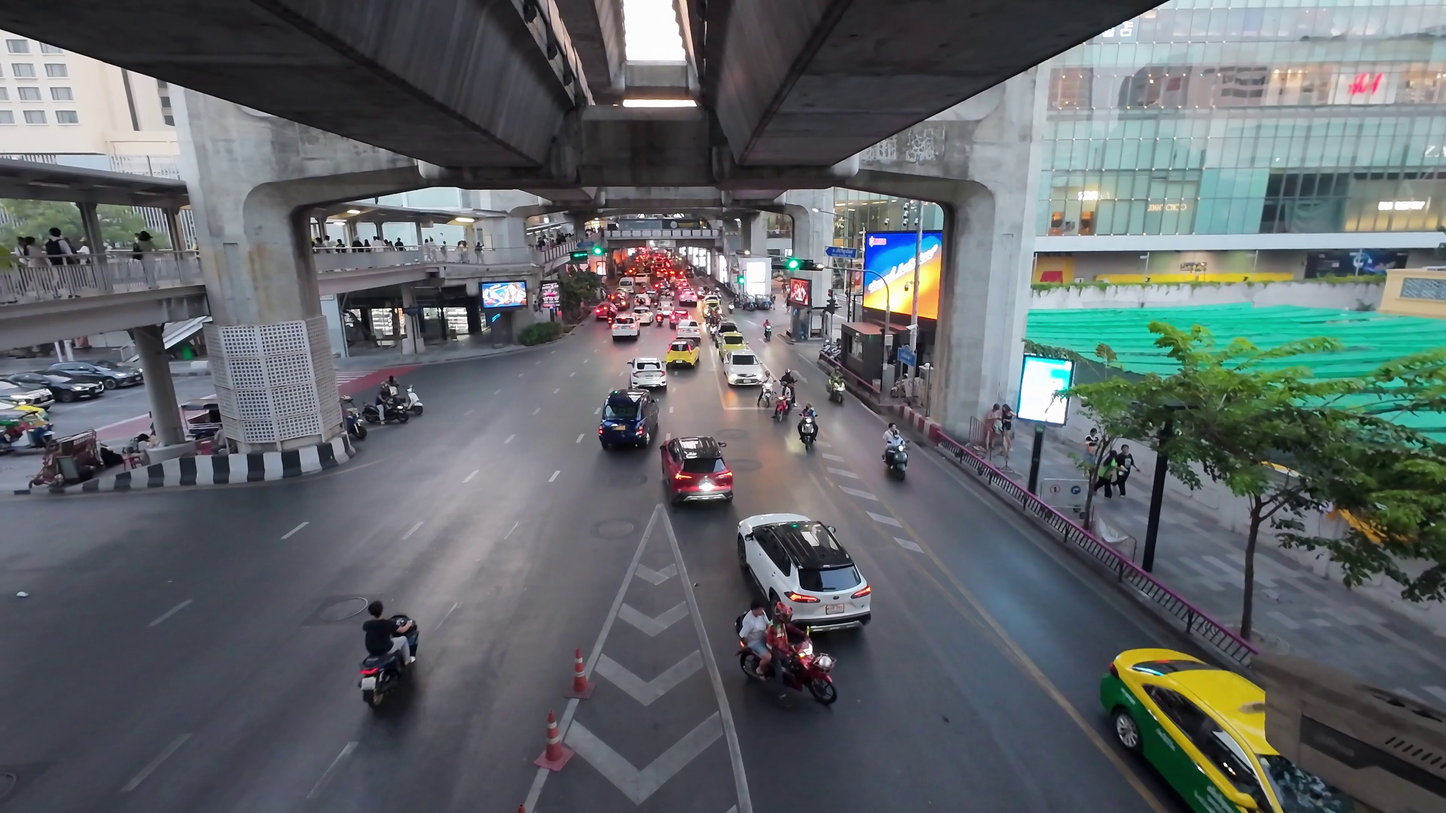license_plate: (1166, 745, 1298, 799), (1164, 745, 1295, 799), (769, 584, 838, 623), (760, 674, 811, 702), (679, 478, 715, 501), (372, 677, 401, 702), (612, 428, 642, 448), (371, 687, 399, 705), (49, 387, 88, 399), (638, 378, 658, 389), (735, 373, 755, 384)
motorcycle: (735, 595, 837, 708), (358, 609, 415, 707), (358, 637, 413, 709)
no_helmet: (356, 590, 417, 618)
no_seatbelt: (1140, 670, 1324, 754), (1138, 670, 1321, 754), (755, 530, 852, 590), (671, 447, 723, 482), (607, 399, 647, 431), (41, 370, 96, 389), (731, 357, 759, 375), (634, 362, 662, 379)
person: (361, 597, 412, 670)
